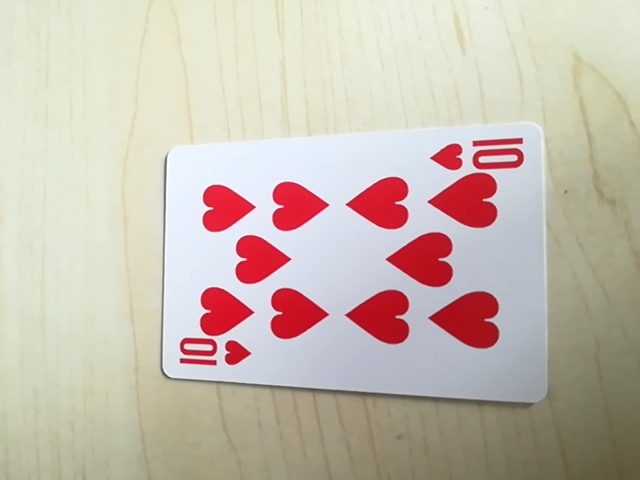hx 10: (429, 131, 528, 174), (170, 335, 253, 378)
